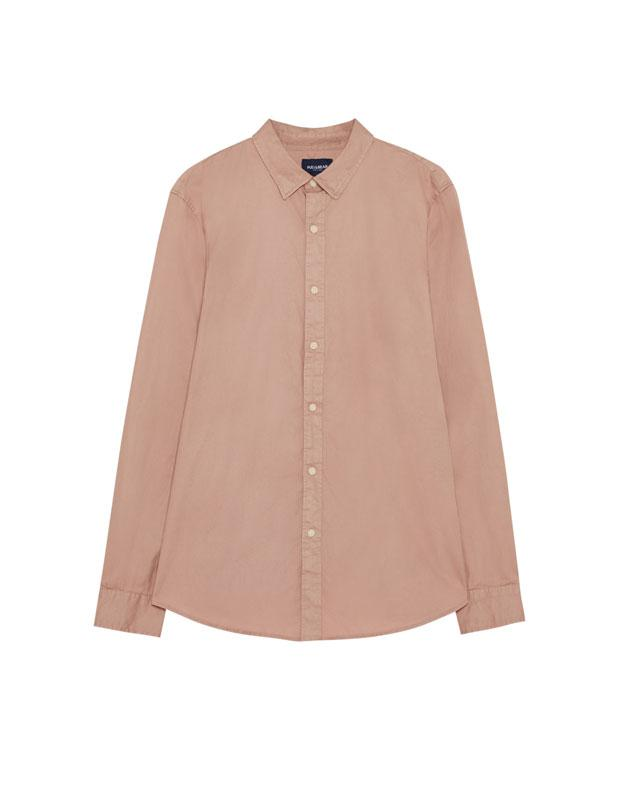teeshirt: (92, 118, 542, 650)
